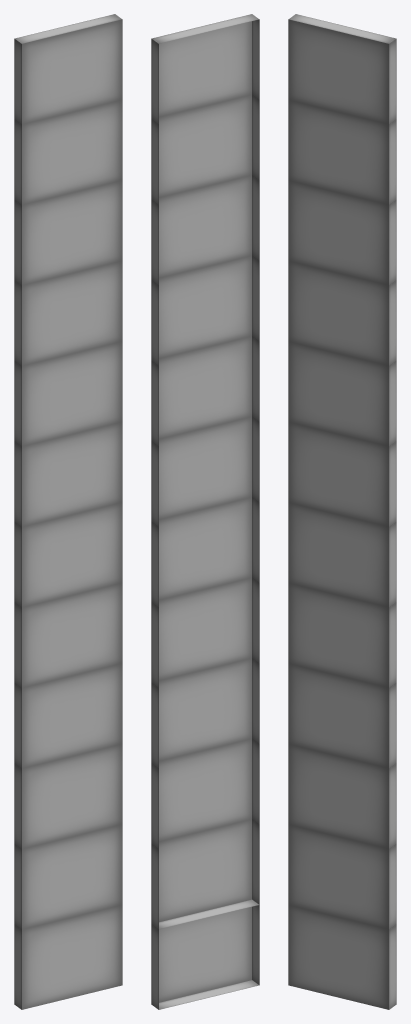
Rendered from Piano.fbx.
3 views of the same model, side by side, from view 1: azimuth 30°, elevation 25°; view 2: azimuth 210°, elevation 25°; view 3: azimuth 330°, elevation 25° (orthographic).
Parts seen in each view (by area): view 1: piano_key_11_geo, piano_key_8_geo, piano_key_9_geo, piano_key_10_geo, piano_key_1_geo, piano_key_3_geo, piano_key_5_geo, piano_key_6_geo, piano_key_7_geo, piano_key_0_geo, piano_key_4_geo, piano_key_2_geo; view 2: piano_key_0_geo, piano_key_11_geo, piano_key_1_geo, piano_key_2_geo, piano_key_3_geo, piano_key_6_geo, piano_key_4_geo, piano_key_5_geo, piano_key_8_geo, piano_key_10_geo, piano_key_7_geo, piano_key_9_geo; view 3: piano_key_11_geo, piano_key_8_geo, piano_key_9_geo, piano_key_10_geo, piano_key_1_geo, piano_key_3_geo, piano_key_5_geo, piano_key_6_geo, piano_key_7_geo, piano_key_0_geo, piano_key_4_geo, piano_key_2_geo.
Boxes of the visible parts, box(x1,y1,x2,y2) form: piano_key_11_geo: box(14, 14, 122, 124); piano_key_8_geo: box(14, 261, 122, 365); piano_key_9_geo: box(14, 180, 122, 285); piano_key_10_geo: box(14, 100, 122, 204); piano_key_1_geo: box(14, 824, 122, 929); piano_key_3_geo: box(14, 663, 122, 768); piano_key_5_geo: box(14, 502, 122, 607); piano_key_6_geo: box(14, 422, 122, 526); piano_key_7_geo: box(14, 341, 122, 446); piano_key_0_geo: box(14, 905, 122, 1009); piano_key_4_geo: box(14, 583, 122, 687); piano_key_2_geo: box(14, 744, 122, 848); piano_key_0_geo: box(151, 899, 259, 1009); piano_key_11_geo: box(151, 14, 259, 124); piano_key_1_geo: box(151, 819, 259, 929); piano_key_2_geo: box(151, 738, 259, 848); piano_key_3_geo: box(151, 658, 259, 768); piano_key_6_geo: box(151, 416, 259, 526); piano_key_4_geo: box(151, 577, 259, 687); piano_key_5_geo: box(151, 497, 259, 607); piano_key_8_geo: box(151, 255, 259, 365); piano_key_10_geo: box(151, 94, 259, 204); piano_key_7_geo: box(151, 336, 259, 446); piano_key_9_geo: box(151, 175, 259, 285); piano_key_11_geo: box(288, 14, 396, 124); piano_key_8_geo: box(288, 261, 396, 365); piano_key_9_geo: box(288, 180, 396, 285); piano_key_10_geo: box(288, 100, 396, 204); piano_key_1_geo: box(288, 824, 396, 929); piano_key_3_geo: box(288, 663, 396, 768); piano_key_5_geo: box(288, 502, 396, 607); piano_key_6_geo: box(288, 422, 396, 526); piano_key_7_geo: box(288, 341, 396, 446); piano_key_0_geo: box(288, 905, 396, 1009); piano_key_4_geo: box(288, 583, 396, 687); piano_key_2_geo: box(288, 744, 396, 848).
Size of the model in its own units: 131 by 1200 by 16.56.
2 materials, 2 textured.
